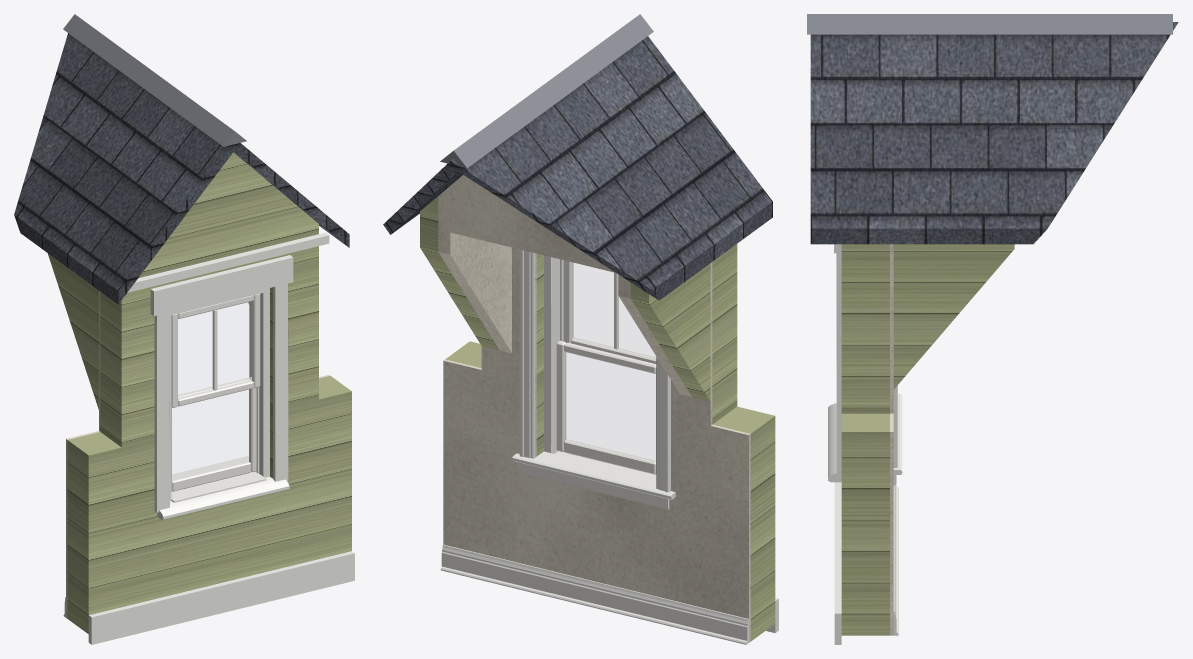
Rendered from knee_wall_dormer.glb.
The picture shows the model from 3 angles, left to right: view 1: azimuth 30°, elevation 25°; view 2: azimuth 150°, elevation 25°; view 3: azimuth 270°, elevation 25°; orthographic projection. The views are drawn at different scales.
Parts seen in each view (by area): view 1: knee_wall_dormer_siding, knee_wall_dormer_shingles, knee_wall_dormer_trim, knee_wall_dormer_glass, knee_wall_dormer_sash, knee_wall_dormer_ridge, knee_wall_dormer_frame, knee_wall_dormer_plaster, molduras; view 2: knee_wall_dormer_plaster, knee_wall_dormer_shingles, knee_wall_dormer_siding, molduras, knee_wall_dormer_glass, knee_wall_dormer_ridge, knee_wall_dormer_sash, knee_wall_dormer_frame, knee_wall_dormer_trim; view 3: knee_wall_dormer_shingles, knee_wall_dormer_siding, knee_wall_dormer_ridge, knee_wall_dormer_trim, molduras, knee_wall_dormer_plaster.
Boxes of the visible parts, bbox=[...] form: knee_wall_dormer_siding: bbox=[48, 152, 351, 633]; knee_wall_dormer_shingles: bbox=[14, 33, 349, 304]; knee_wall_dormer_trim: bbox=[88, 232, 354, 644]; knee_wall_dormer_glass: bbox=[172, 302, 252, 479]; knee_wall_dormer_sash: bbox=[171, 294, 260, 491]; knee_wall_dormer_ridge: bbox=[63, 14, 246, 146]; knee_wall_dormer_frame: bbox=[169, 288, 269, 500]; knee_wall_dormer_plaster: bbox=[66, 291, 330, 618]; molduras: bbox=[63, 302, 250, 617]; knee_wall_dormer_plaster: bbox=[438, 175, 750, 642]; knee_wall_dormer_shingles: bbox=[383, 36, 772, 300]; knee_wall_dormer_siding: bbox=[420, 196, 775, 641]; molduras: bbox=[440, 249, 748, 644]; knee_wall_dormer_glass: bbox=[565, 263, 655, 461]; knee_wall_dormer_ridge: bbox=[440, 14, 653, 168]; knee_wall_dormer_sash: bbox=[556, 260, 656, 474]; knee_wall_dormer_frame: bbox=[544, 255, 563, 453]; knee_wall_dormer_trim: bbox=[554, 451, 778, 633]; knee_wall_dormer_shingles: bbox=[810, 22, 1178, 244]; knee_wall_dormer_siding: bbox=[841, 244, 1014, 635]; knee_wall_dormer_ridge: bbox=[807, 14, 1172, 34]; knee_wall_dormer_trim: bbox=[828, 244, 841, 644]; molduras: bbox=[893, 385, 902, 635]; knee_wall_dormer_plaster: bbox=[890, 244, 893, 635].
Bounding box in the file's own units: 2 × 3.56 × 2.15.
8 materials, 3 textured.
